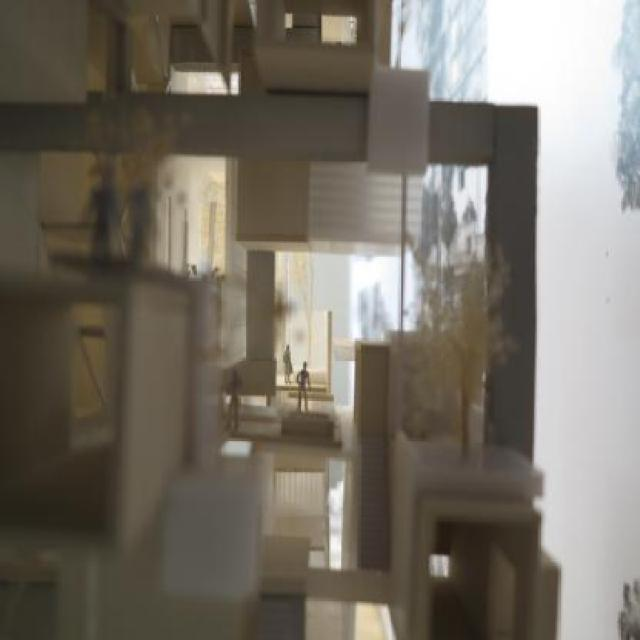stair: (357, 432, 391, 570), (248, 592, 294, 640)
